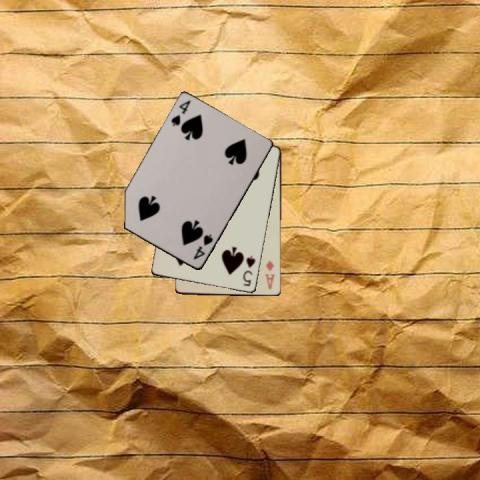4s: (168, 97, 192, 128), (190, 232, 214, 262)
5s: (240, 253, 257, 288)
Ad: (263, 258, 276, 292)
